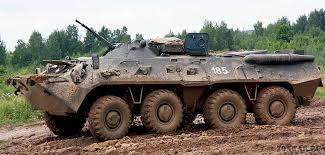tank: (9, 15, 325, 155)
